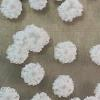white: (21, 23, 51, 53), (51, 38, 80, 66), (18, 62, 47, 87), (50, 73, 74, 99), (4, 44, 30, 65), (0, 0, 25, 21), (55, 3, 77, 24), (8, 29, 32, 48), (61, 0, 85, 18), (88, 41, 100, 67), (0, 86, 22, 100), (27, 0, 49, 12), (28, 90, 52, 100), (92, 81, 100, 100), (82, 95, 100, 100), (64, 96, 83, 100), (53, 0, 63, 3)
